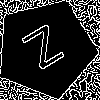Z: (21, 24, 72, 78)
